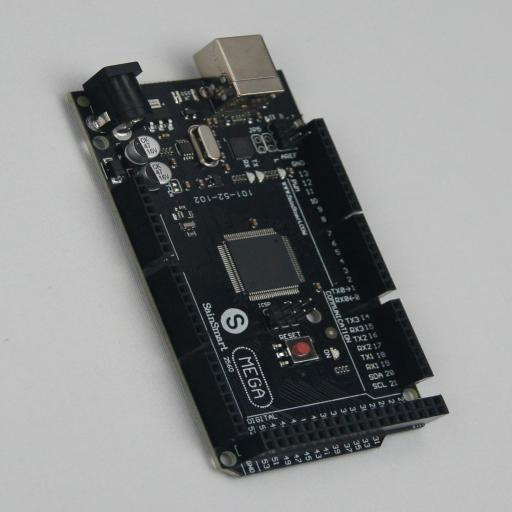Arduino Mega 2560 -Black-: (68, 35, 449, 477)
